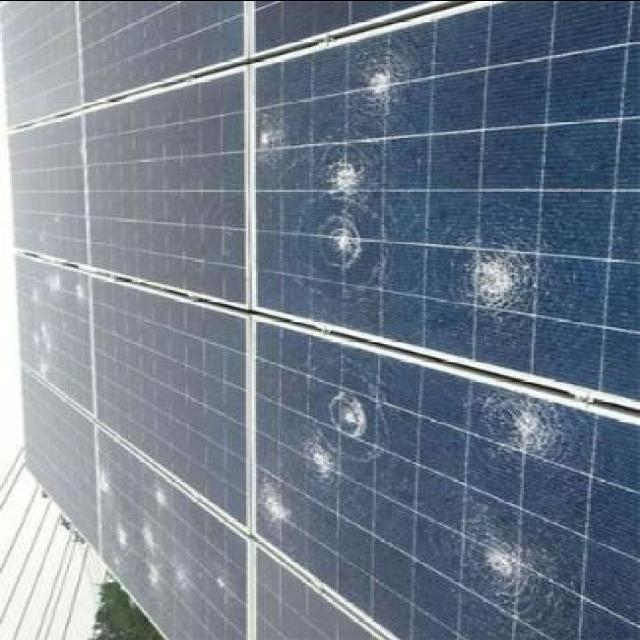cracked: (256, 29, 640, 369), (252, 332, 640, 640), (92, 435, 258, 640), (6, 250, 112, 416)
